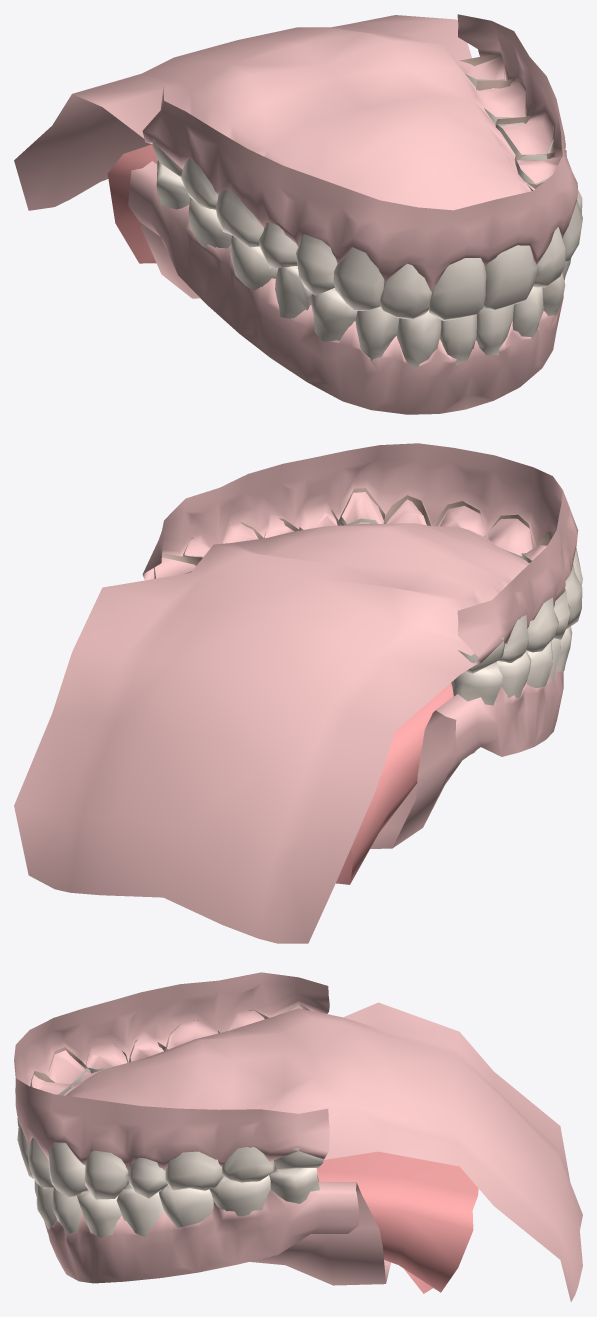
3 renders of one model, top to bottom at view 1: azimuth 30°, elevation 25°; view 2: azimuth 150°, elevation 25°; view 3: azimuth 270°, elevation 25°, orthographic. The views are drawn at different scales.
Visible parts, largest first — view 1: ID581, ID42, ID858, ID55, ID867, ID833, ID590, ID808, ID326, ID424, ID758, ID383 (+14 smaller); view 2: ID581, ID42, ID55, ID540, ID758, ID499, ID474, ID741, ID808; view 3: ID581, ID42, ID55, ID657, ID723, ID3, ID70, ID901, ID119, ID632, ID144, ID161 (+5 smaller).
Part boxes in pixels (x1,y1,x2,y2): ID581: (14,14,578,291); ID42: (128,161,563,414); ID858: (428,258,486,320); ID55: (107,144,157,263); ID867: (483,245,537,310); ID833: (333,247,384,310); ID590: (380,263,432,319); ID808: (296,234,337,295); ID326: (396,310,441,368); ID424: (310,288,357,341); ID758: (215,189,263,247); ID383: (355,306,399,360); ID581: (14,443,578,943); ID42: (370,667,563,848); ID55: (336,683,453,884); ID540: (451,662,502,705); ID758: (526,597,558,652); ID499: (496,650,531,697); ID474: (526,641,552,687); ID741: (498,615,528,662); ID808: (565,565,582,628); ID581: (14,972,582,1301); ID42: (44,1182,390,1285); ID55: (83,1151,478,1293); ID657: (165,1151,223,1190); ID723: (85,1150,128,1199); ID3: (209,1175,270,1216); ID70: (159,1185,213,1227); ID901: (48,1142,86,1197); ID119: (116,1183,163,1236); ID632: (222,1146,276,1182); ID144: (269,1168,319,1203); ID161: (77,1189,121,1237).
Size of the model in its own units: 0.0629 by 0.0498 by 0.1014.
